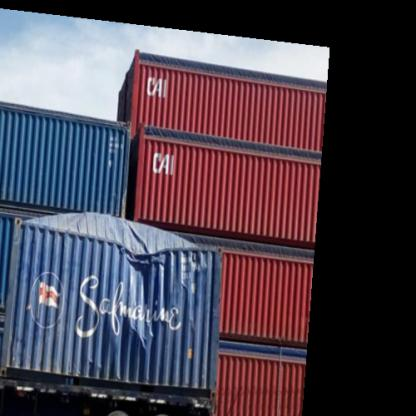Damage: (6, 210, 209, 354)
